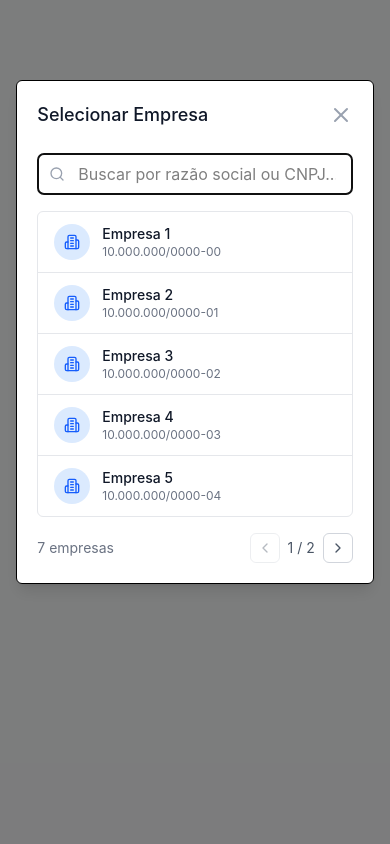
Test case: CompanySelectModal › paginates when more than 5 companies
Expected: the text "1 / 2" is shown, [288,538,315,558]
// Find next-page button (last one before clear, has no name)
Click the 8th button at coordinates (338, 548), box [323,533,353,563]
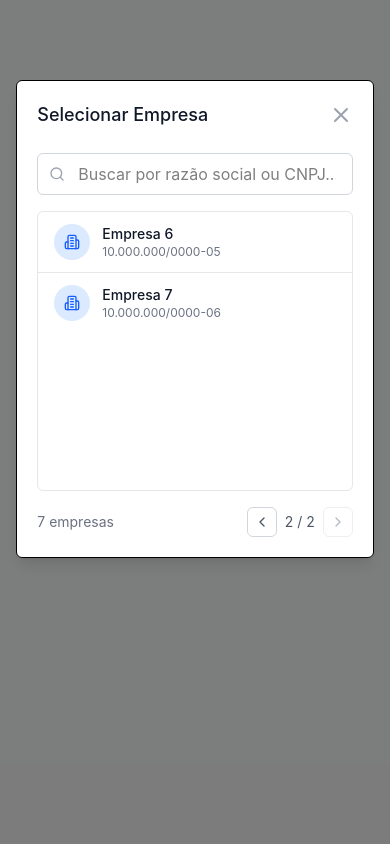
Expected: the text "2 / 2" is shown, [285,512,315,532]
